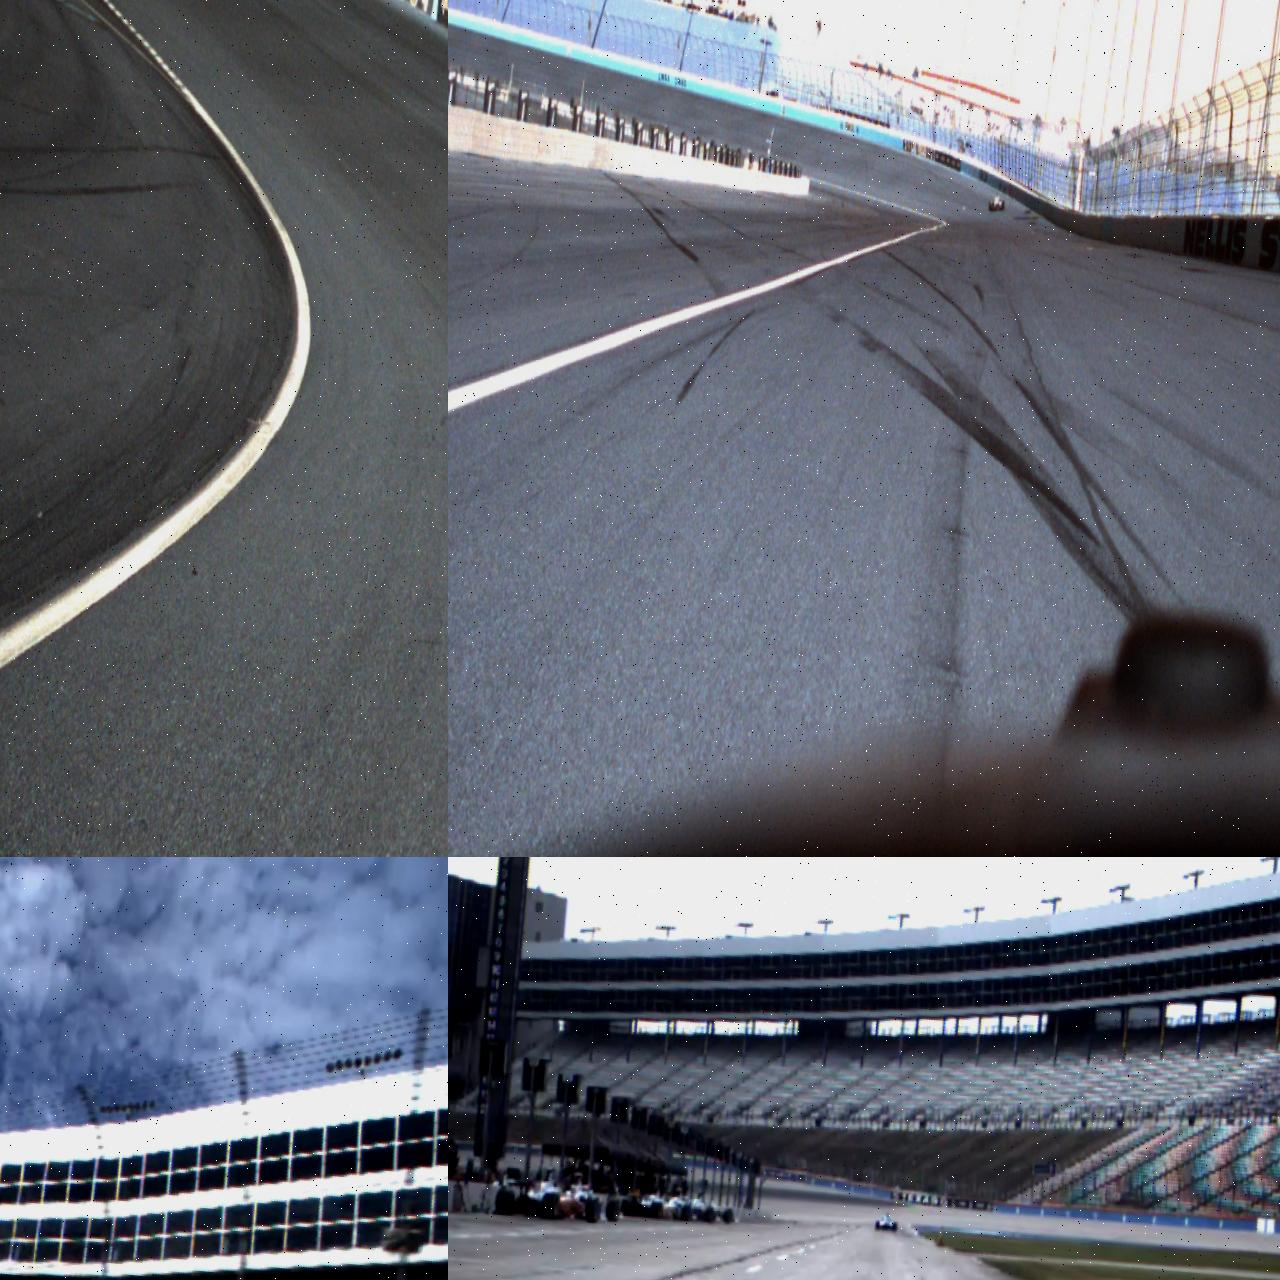AV: (496, 1164, 605, 1224), (874, 1212, 899, 1233), (988, 193, 1006, 212)
Wheel: (495, 1189, 516, 1216), (542, 1191, 560, 1219), (585, 1196, 602, 1223), (606, 1198, 620, 1221), (651, 1200, 663, 1219), (704, 1206, 716, 1223), (681, 1205, 692, 1220), (723, 1207, 733, 1224), (874, 1219, 880, 1231), (892, 1223, 897, 1232), (1001, 200, 1005, 210), (990, 202, 994, 211), (988, 202, 990, 210)
